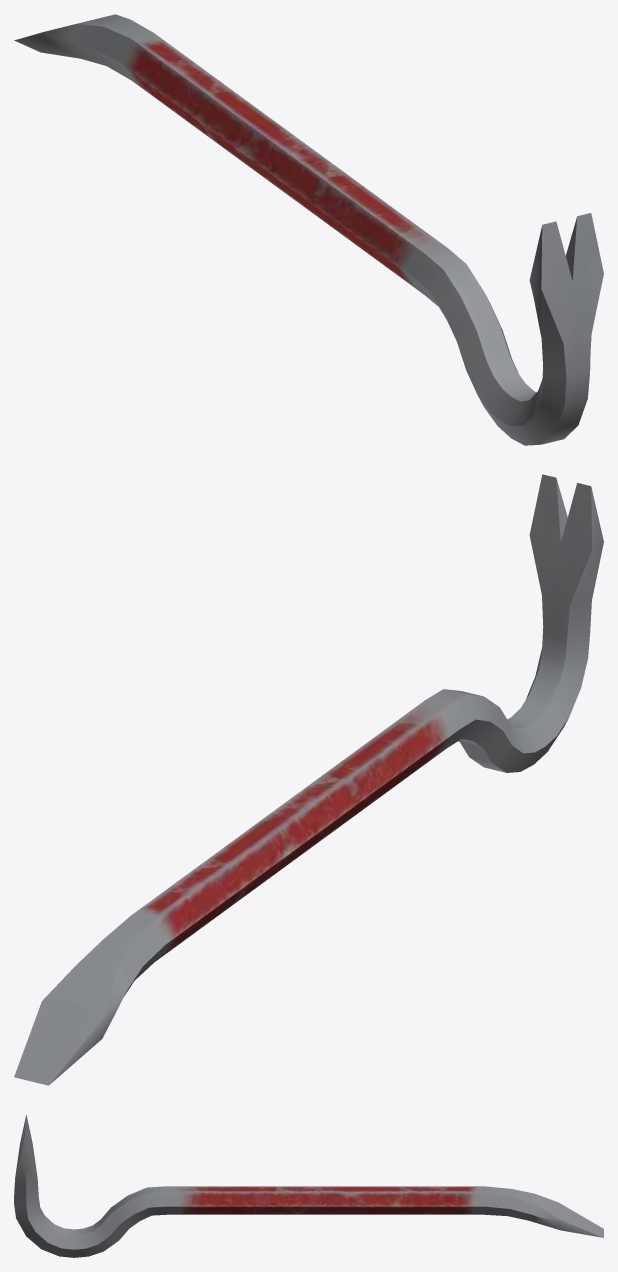
Rendered from s_palanca.glb.
3 views of the same model, one above another, from view 1: azimuth 30°, elevation 25°; view 2: azimuth 150°, elevation 25°; view 3: azimuth 270°, elevation 25° (orthographic). The views are drawn at different scales.
Parts seen in each view (by area): view 1: defaultMaterial; view 2: defaultMaterial; view 3: defaultMaterial.
Part boxes in pixels (box(x1,y1,x2,y2)): defaultMaterial: box(14, 14, 603, 445); defaultMaterial: box(14, 474, 603, 1085); defaultMaterial: box(14, 1115, 603, 1257).
Bounding box in the file's own units: 0.0538 × 0.1885 × 0.75.
1 material, 1 textured.
